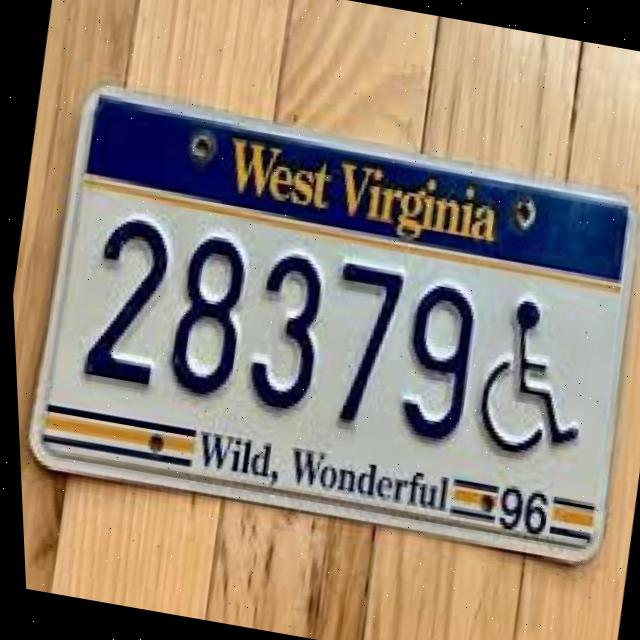symbol_of_access: (463, 292, 602, 469)
